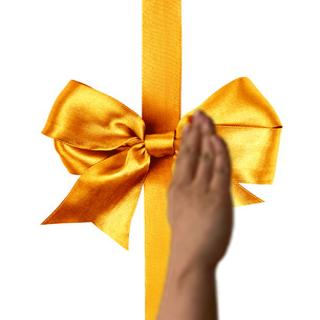RIGHT: (158, 103, 239, 273)
